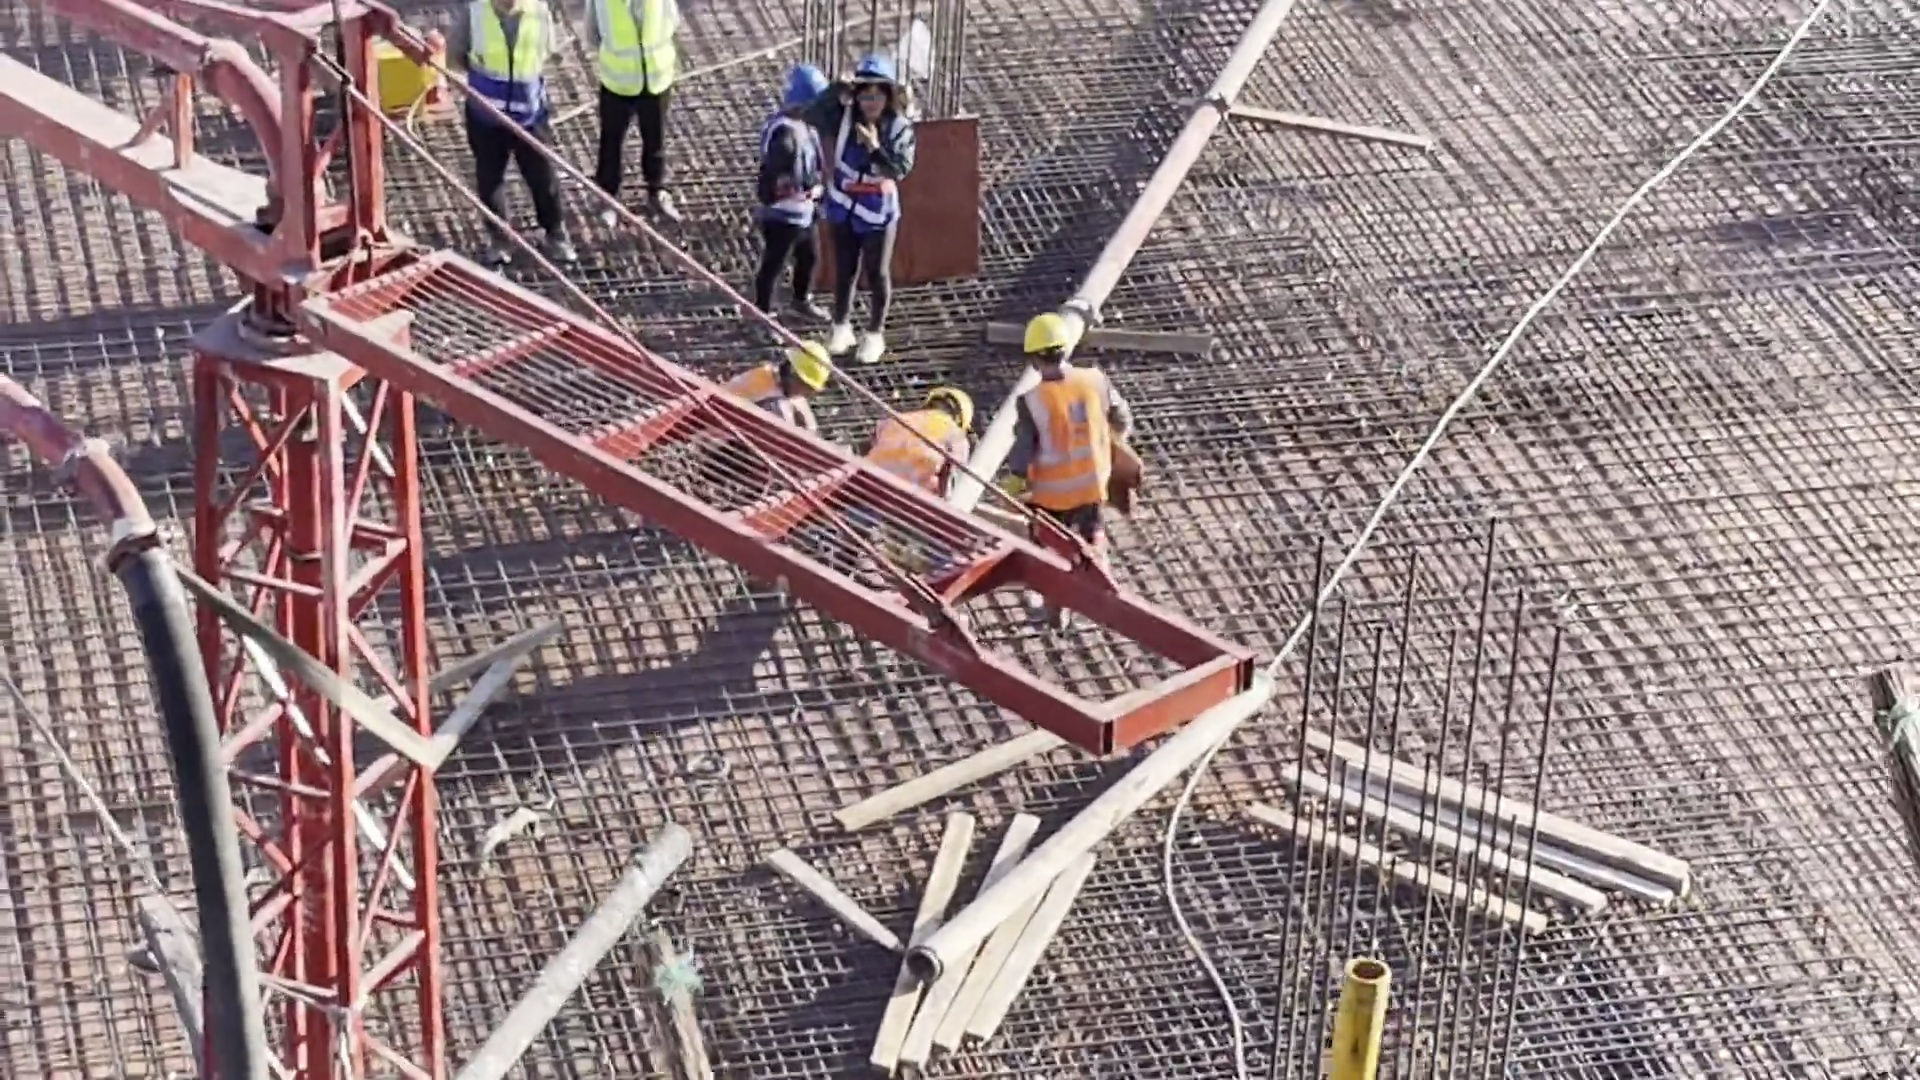helmet: (781, 340, 831, 384), (1017, 315, 1074, 352), (784, 64, 823, 111), (859, 49, 901, 88), (934, 385, 974, 417)
person: (447, 1, 595, 279), (1010, 306, 1151, 589), (820, 46, 919, 387), (572, 1, 689, 223), (847, 379, 988, 542), (748, 68, 834, 332), (700, 335, 834, 434)
vest: (1023, 384, 1124, 530), (855, 404, 955, 492), (594, 1, 681, 92), (469, 11, 544, 114), (753, 116, 807, 213), (842, 127, 892, 191), (721, 357, 782, 404)
